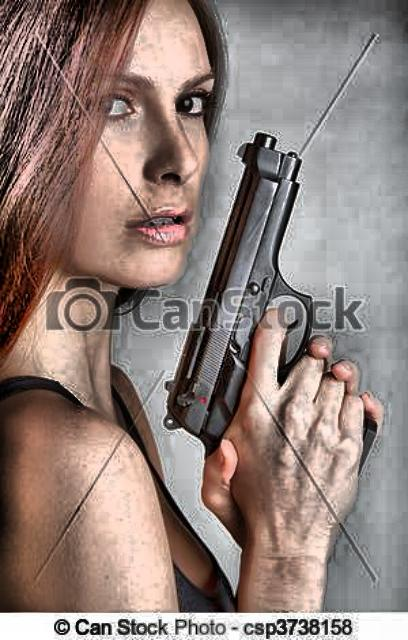pistol: (163, 126, 376, 484)
